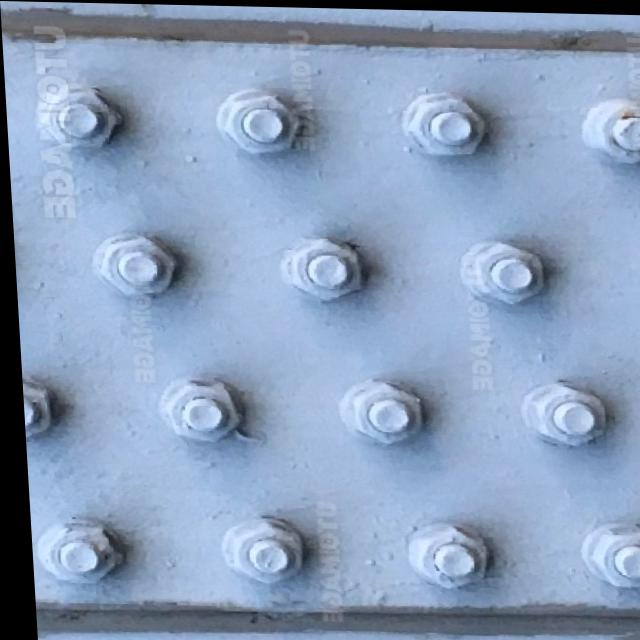Regular bolt: (401, 82, 494, 174), (452, 230, 550, 315), (214, 502, 302, 588), (399, 514, 488, 597), (212, 80, 304, 159), (333, 375, 425, 453), (279, 227, 370, 305), (513, 376, 606, 451), (43, 81, 121, 166), (90, 228, 175, 301), (36, 515, 116, 586), (154, 377, 234, 443), (579, 516, 640, 592), (579, 90, 640, 164)
